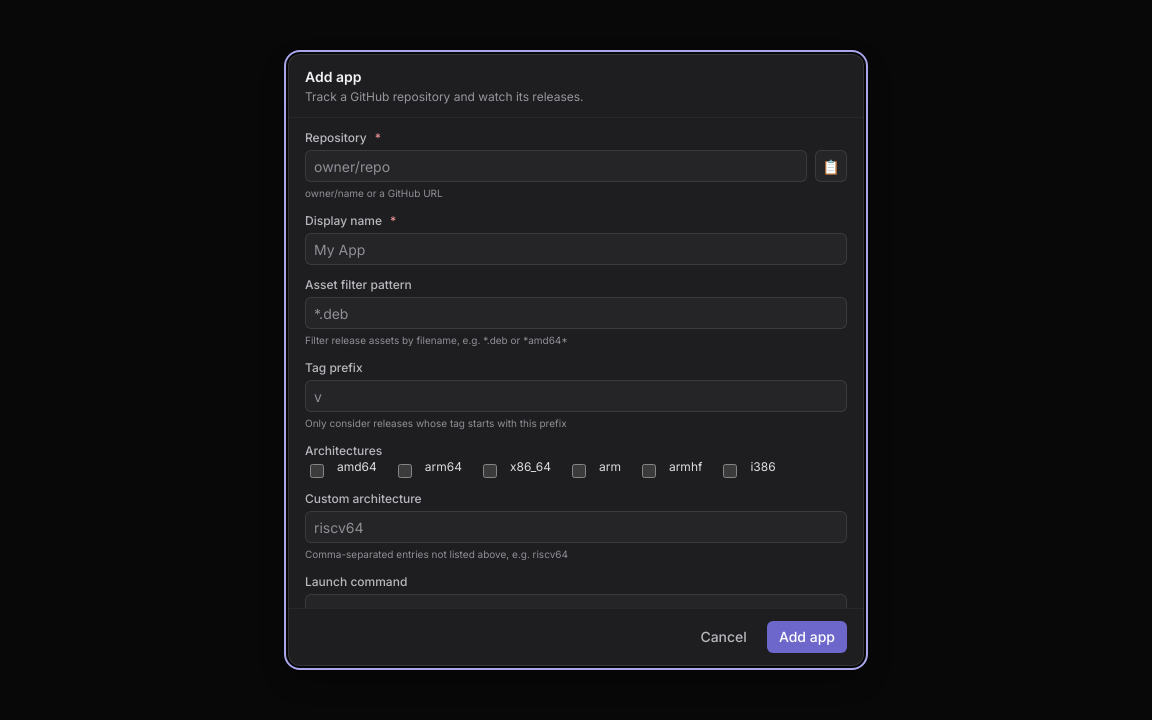
Test case: AddAppDialog › auto-fills the display name from the repo name until it is edited
Type "owner/codegraph" into the field labelled "Repository".
click(556, 166); type("owner/codegraph")  # box [305, 150, 807, 182]
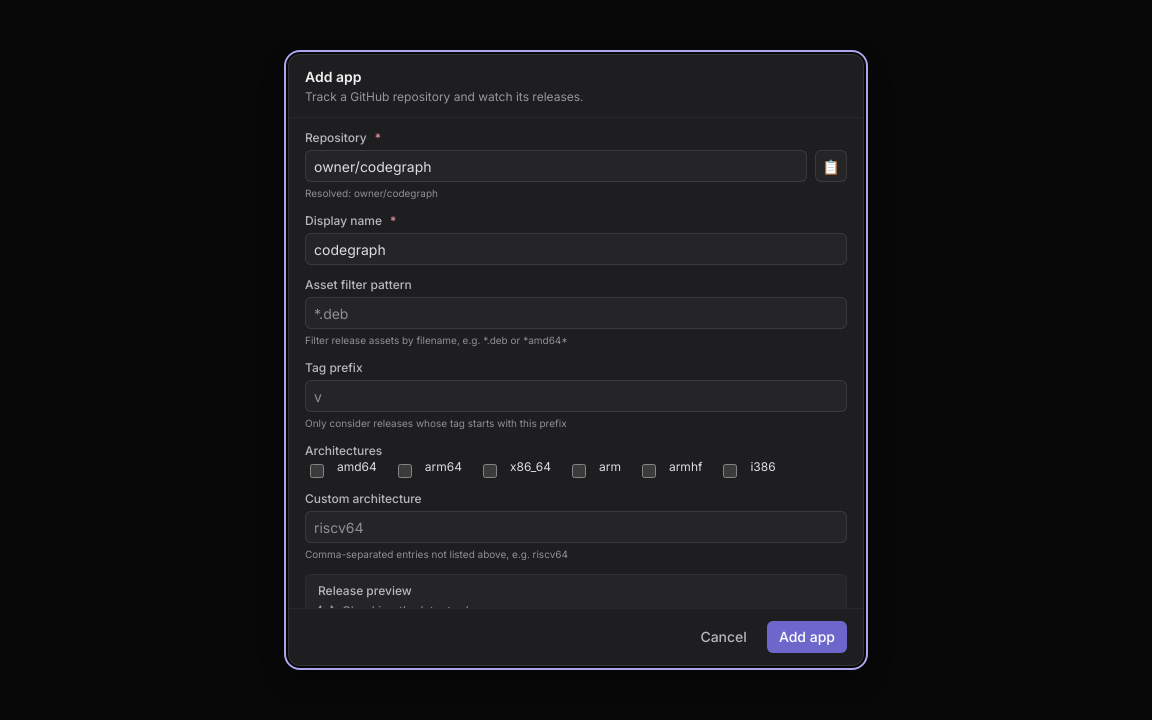
Now the field labelled "Display name" holds "codegraph", box [305, 233, 847, 265]
// Still auto-filling while the name has not been touched.
Replace the text in the field labelled "Repository" with "owner/other" at (556, 166), box [305, 150, 807, 182]
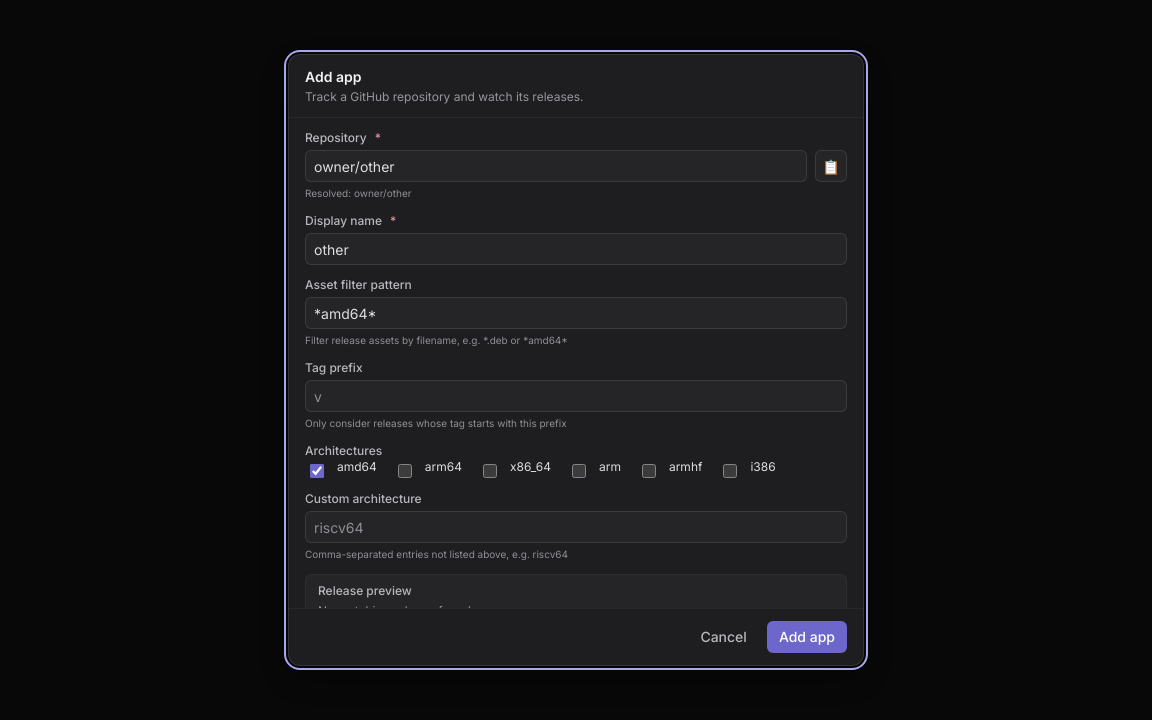
Now the field labelled "Display name" holds "other", box [305, 233, 847, 265]
